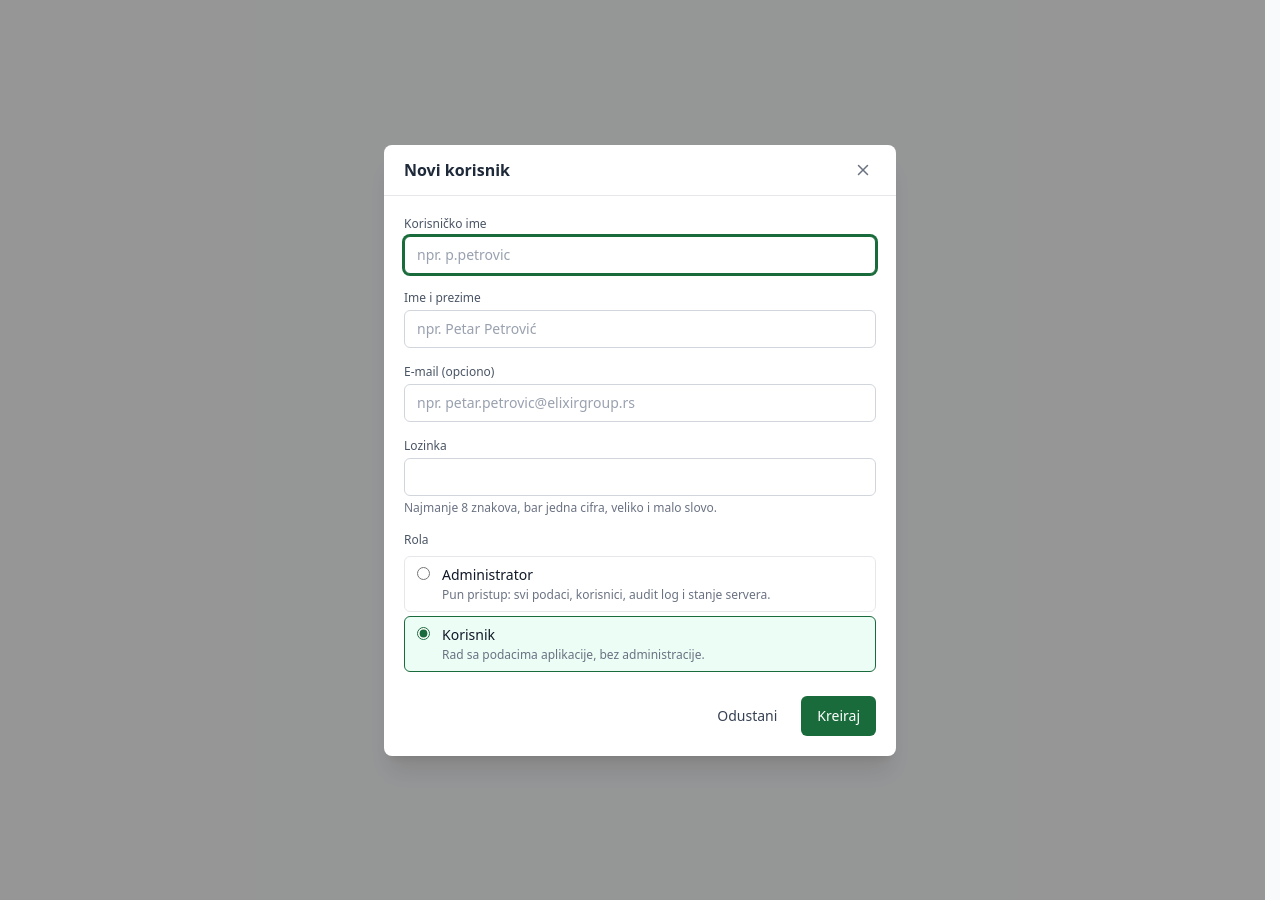
Test: KorisnikForm › blokira kreiranje sa prekratkim korisničkim imenom i lozinkom i prikazuje greške uz polja
The width and height of the screenshot is (1280, 900).
In the field labelled "Korisničko ime": (640,254) [404,236,876,274], type "ab"
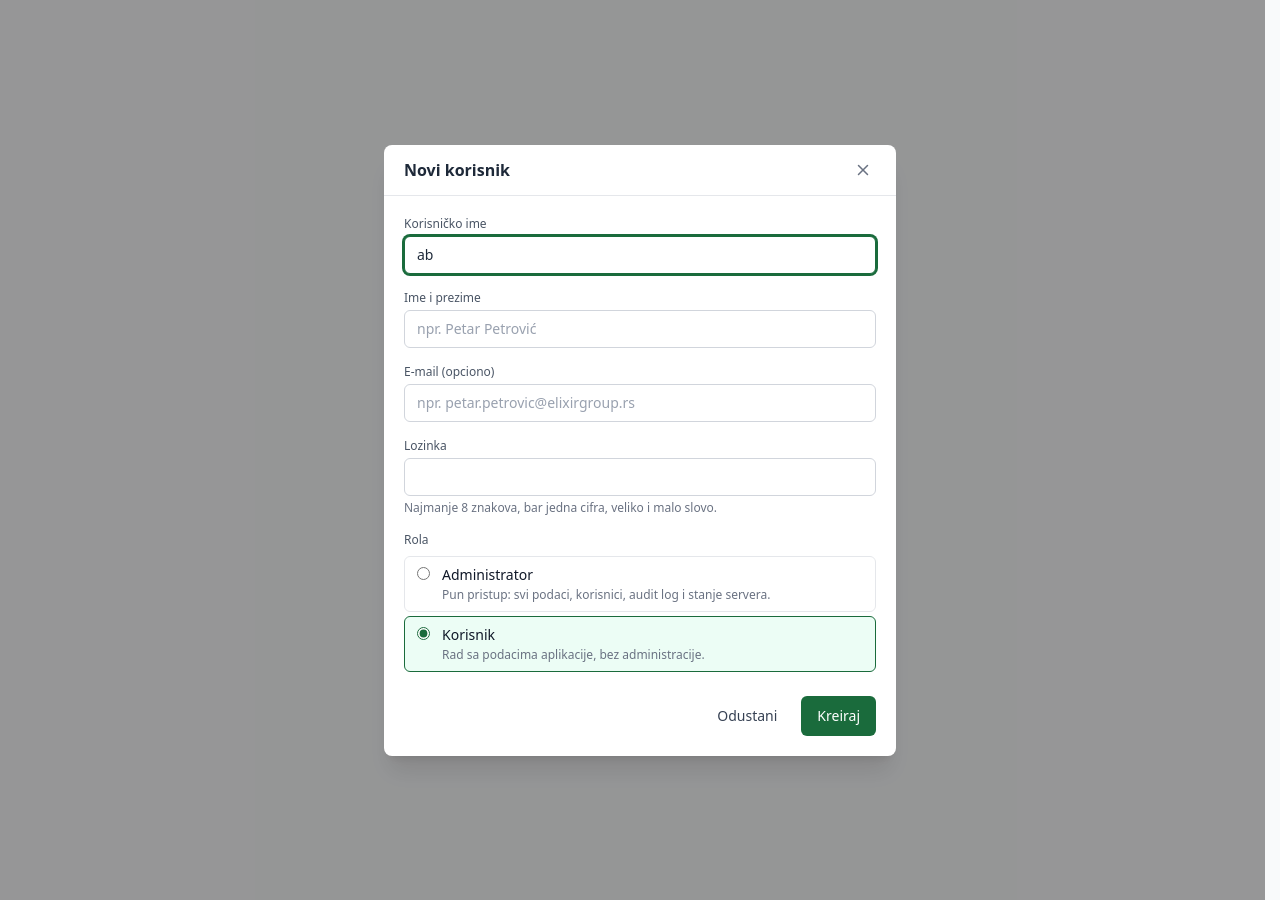
In the field labelled "Ime i prezime": (640,328) [404,310,876,348], type "Test Korisnik"
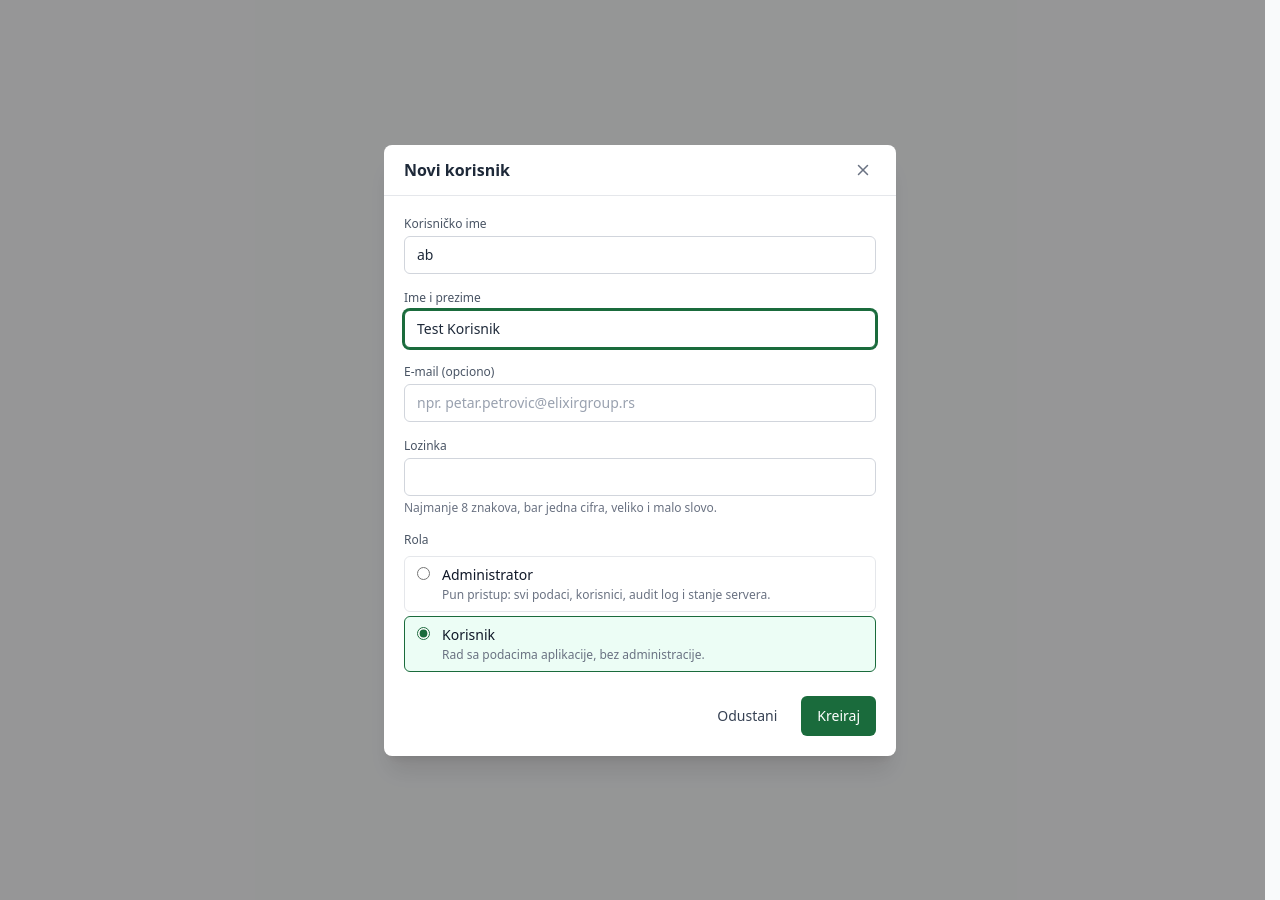
In the password field labelled "Lozinka": (640,476) [404,458,876,496], type "kratka"
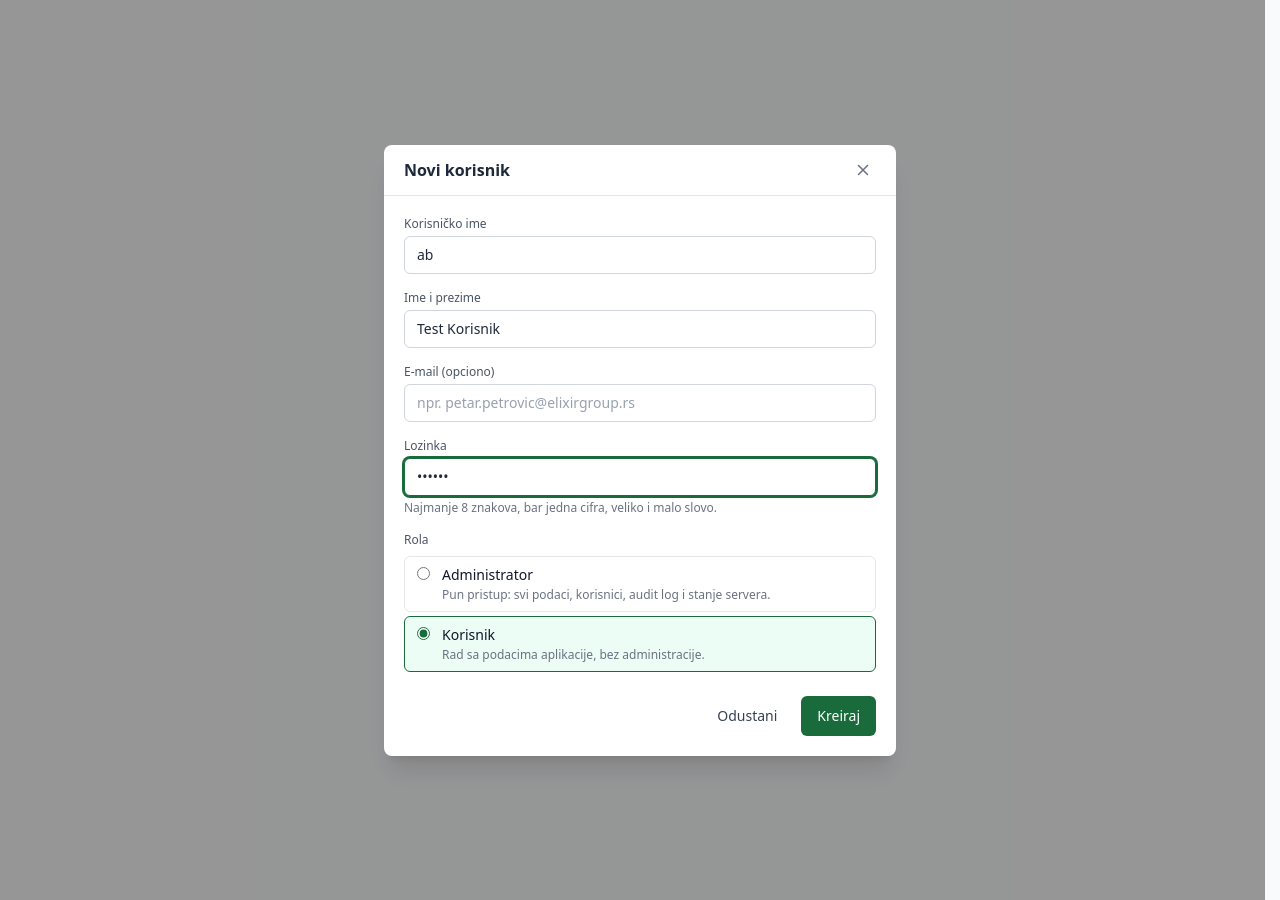
Click the button "Kreiraj": (839,716) [801,696,876,736]
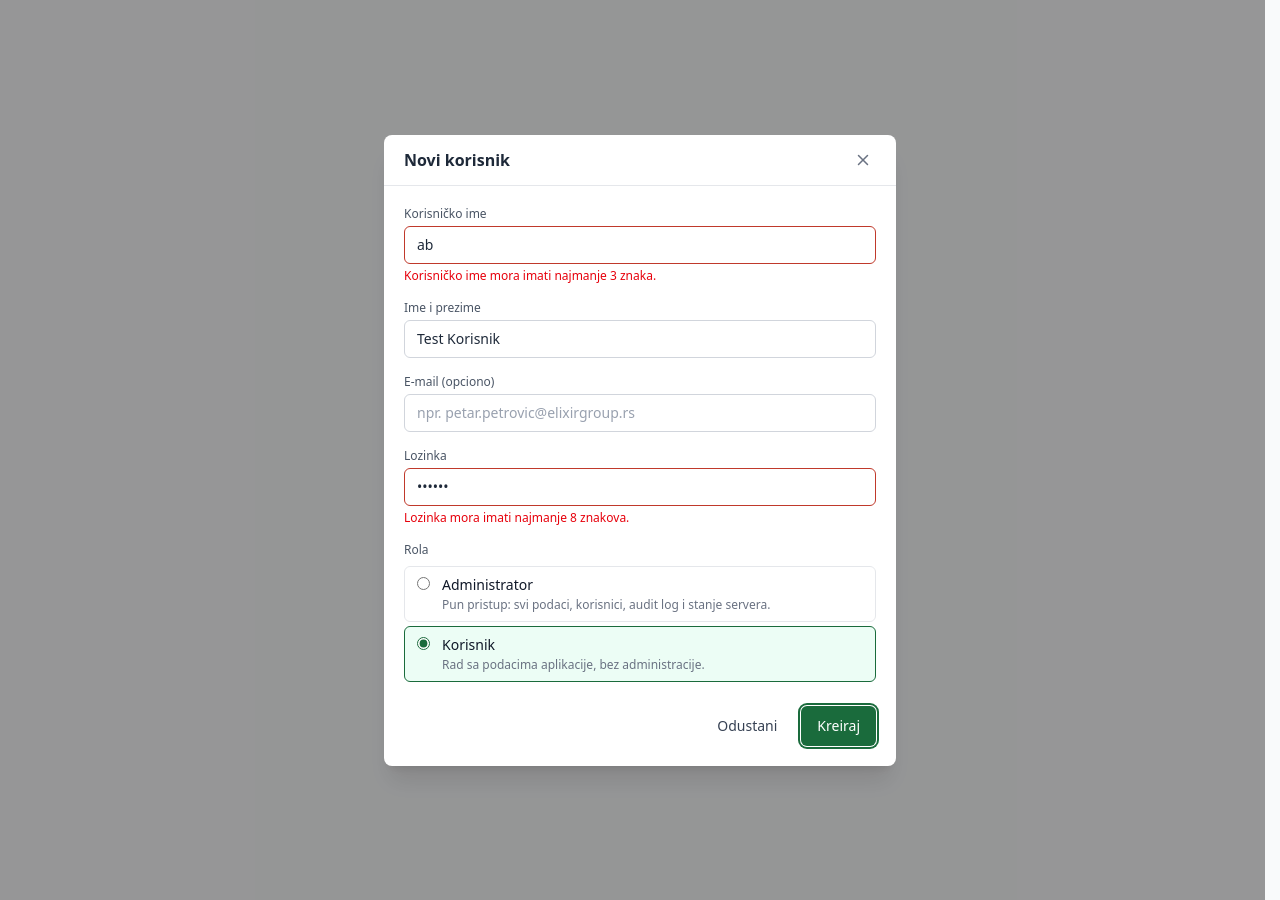
Expected: the text "Korisničko ime mora imati najmanje 3 znaka." is shown, [404,266,656,284]
Expected: the text "Lozinka mora imati najmanje 8 znakova." is shown, [404,508,629,526]
